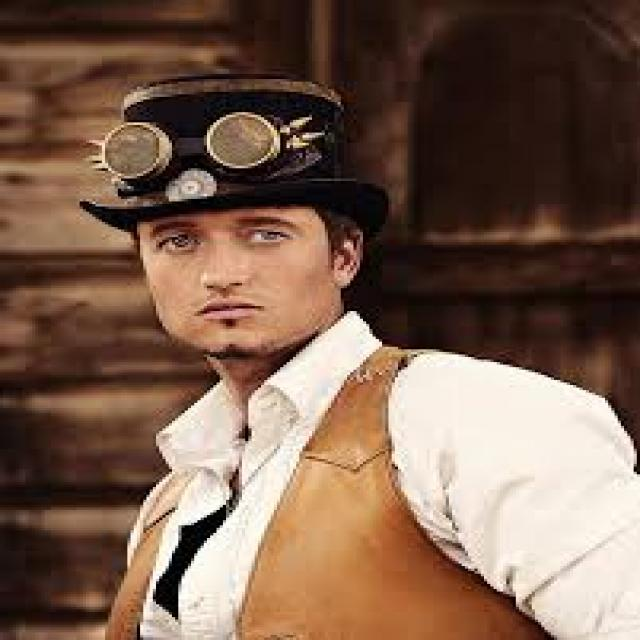hat: (53, 68, 408, 248)
